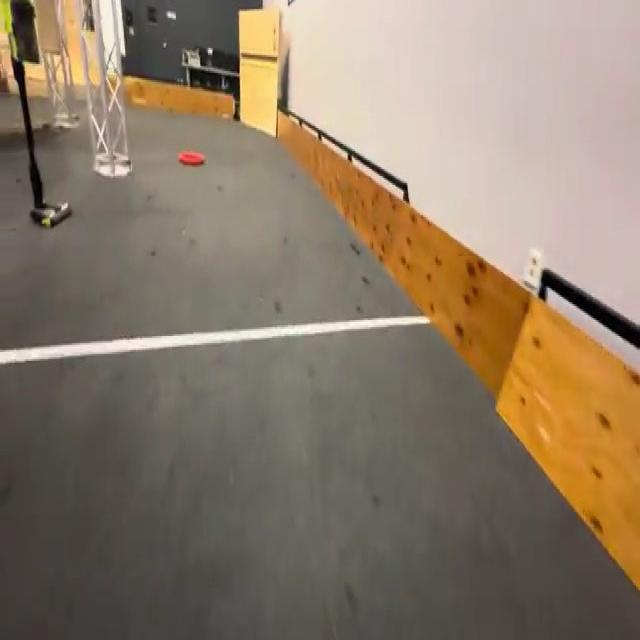note: (177, 150, 205, 167)
